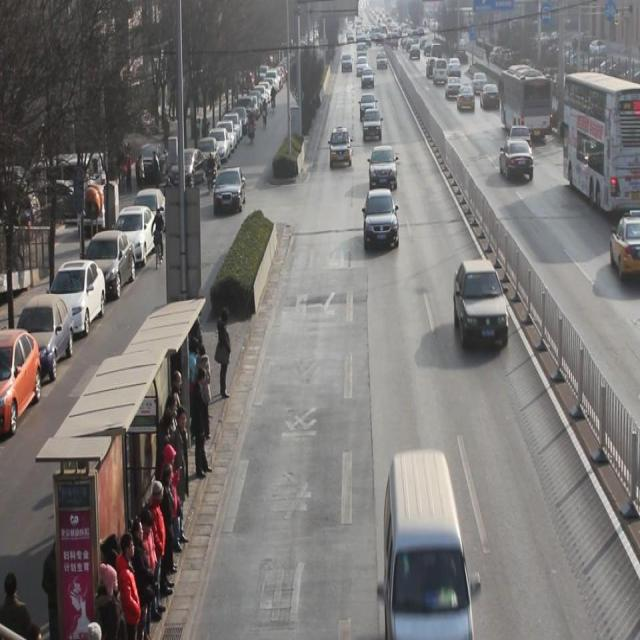car: (454, 260, 508, 348), (364, 189, 398, 251), (610, 213, 640, 282), (499, 140, 533, 184), (369, 146, 397, 191), (329, 127, 352, 168), (507, 124, 531, 158), (362, 108, 382, 142), (479, 84, 500, 112), (359, 94, 377, 123), (456, 84, 474, 112), (470, 72, 488, 96), (444, 75, 461, 100)
truck: (383, 452, 473, 640)
van: (561, 71, 640, 211), (500, 65, 552, 144)
